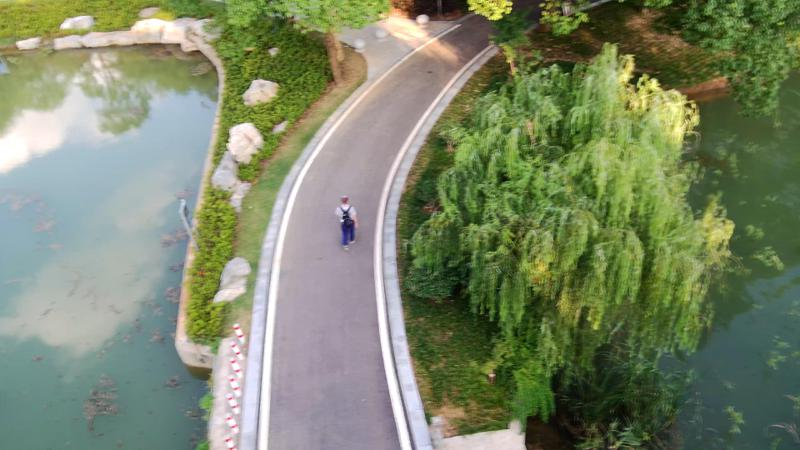passerby: (334, 193, 360, 252)
